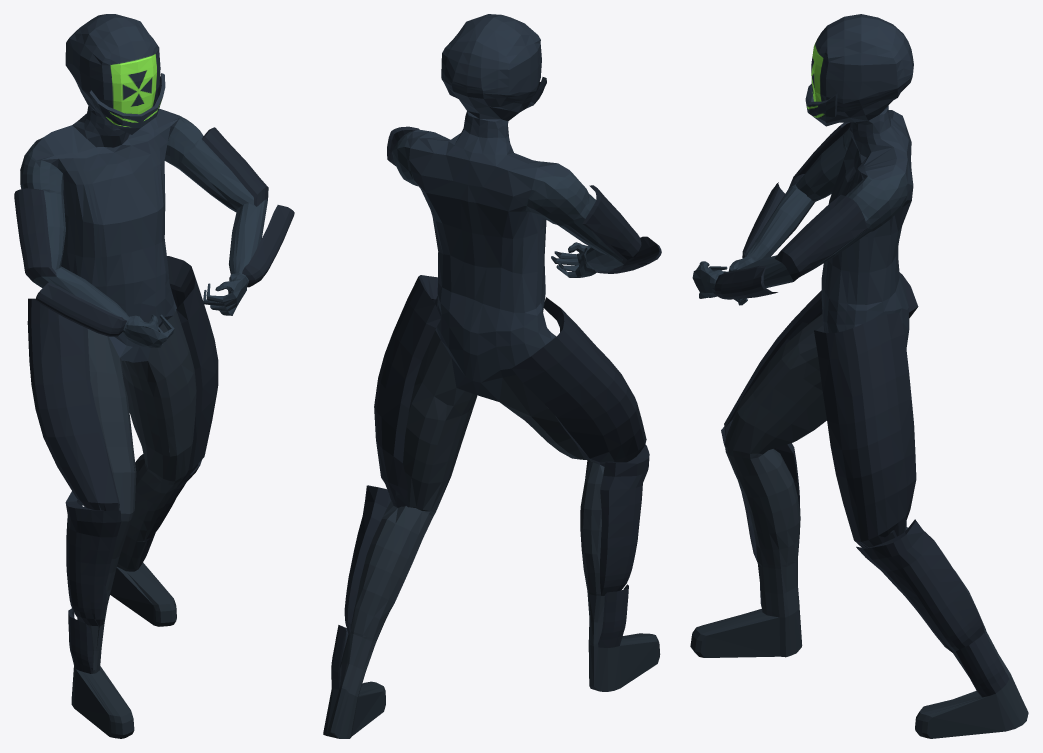
The model's file is Bastion_Stun_Recover_000021.obj.
The picture shows the model from 3 angles, left to right: view 1: azimuth 30°, elevation 25°; view 2: azimuth 150°, elevation 25°; view 3: azimuth 270°, elevation 25°; orthographic projection. The views are drawn at different scales.
Visible parts, largest first — view 1: Cube.002; view 2: Cube.002; view 3: Cube.002.
Boxes of the visible parts, x1,y1,x2,y2 form: Cube.002: (14, 14, 294, 738); Cube.002: (323, 14, 661, 738); Cube.002: (690, 14, 1028, 738).
Size of the model in its own units: 1.49 by 3.69 by 1.68.
